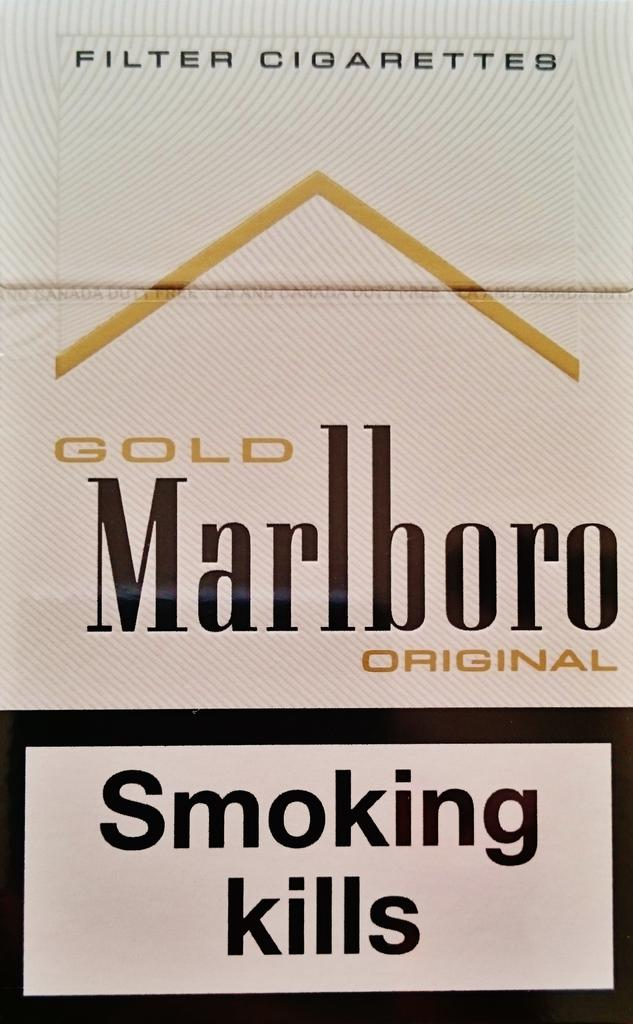marlboro_gold: (1, 2, 628, 1023)
